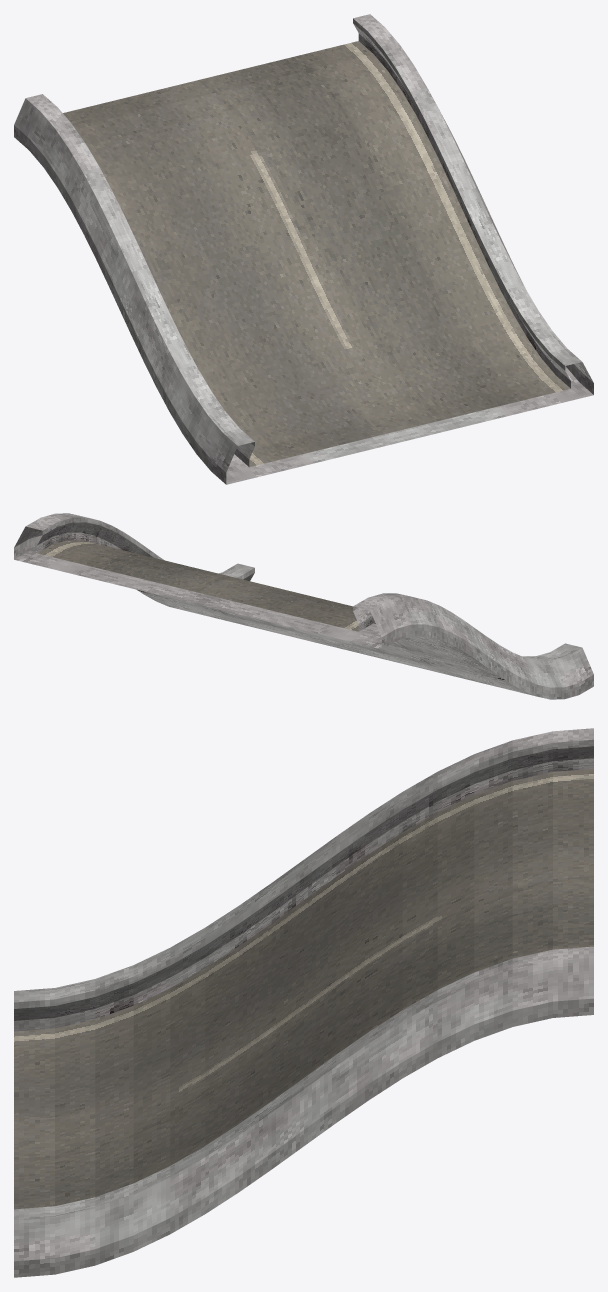
Rendered from road-Straight-Flat-Flat-Up2-Center-Size1.glb.
3 views of the same model, one above another, from view 1: azimuth 30°, elevation 25°; view 2: azimuth 150°, elevation 25°; view 3: azimuth 270°, elevation 25° (orthographic). The views are drawn at different scales.
Visible parts, largest first — view 1: road-Straight-Flat-Flat-Up2-Center-Size1; view 2: road-Straight-Flat-Flat-Up2-Center-Size1; view 3: road-Straight-Flat-Flat-Up2-Center-Size1.
Boxes of the visible parts, left/top/right/bottom form: road-Straight-Flat-Flat-Up2-Center-Size1: left=14, top=14, right=593, bottom=484; road-Straight-Flat-Flat-Up2-Center-Size1: left=14, top=513, right=593, bottom=699; road-Straight-Flat-Flat-Up2-Center-Size1: left=14, top=728, right=593, bottom=1277.
Size of the model in its own units: 1 by 0.5938 by 1.
2 materials, 2 textured.
